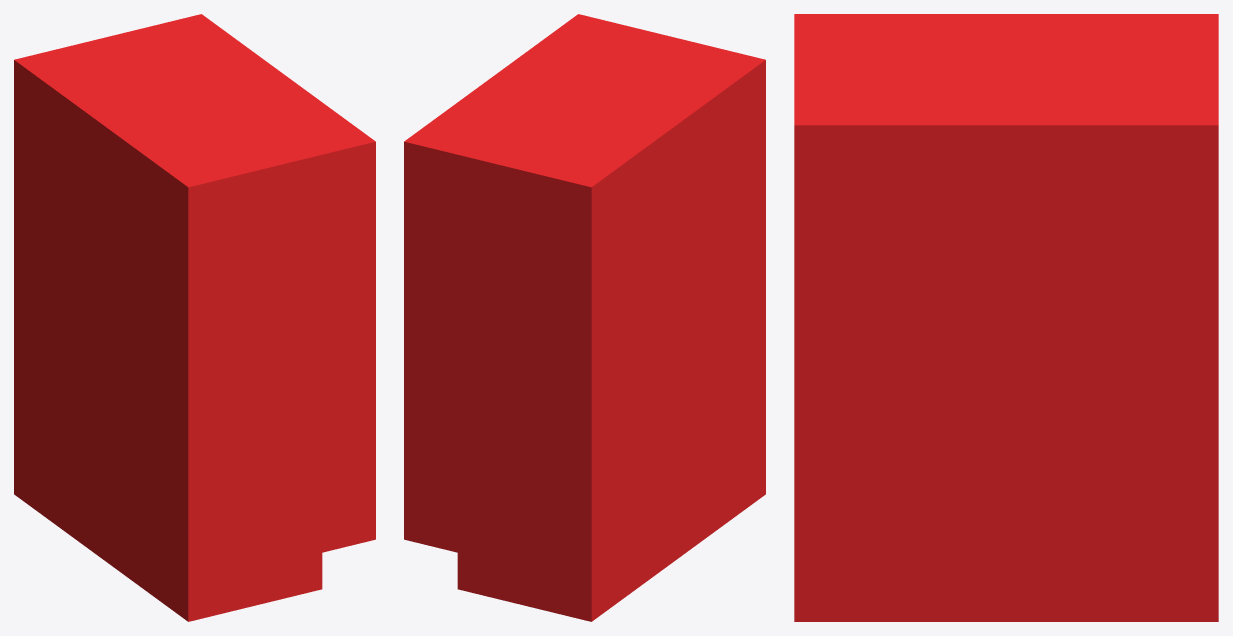
Rendered from Blocker Edge Left.fbx.
3 views of the same model, side by side, from view 1: azimuth 30°, elevation 25°; view 2: azimuth 150°, elevation 25°; view 3: azimuth 270°, elevation 25° (orthographic). The views are drawn at different scales.
Parts seen in each view (by area): view 1: Blocker Edge Left; view 2: Blocker Edge Left; view 3: Blocker Edge Left.
Boxes of the visible parts, bbox=[...] form: Blocker Edge Left: bbox=[14, 14, 375, 621]; Blocker Edge Left: bbox=[404, 14, 765, 621]; Blocker Edge Left: bbox=[794, 14, 1218, 621].
Size of the model in its own units: 12.15 by 26.91 by 19.57.
